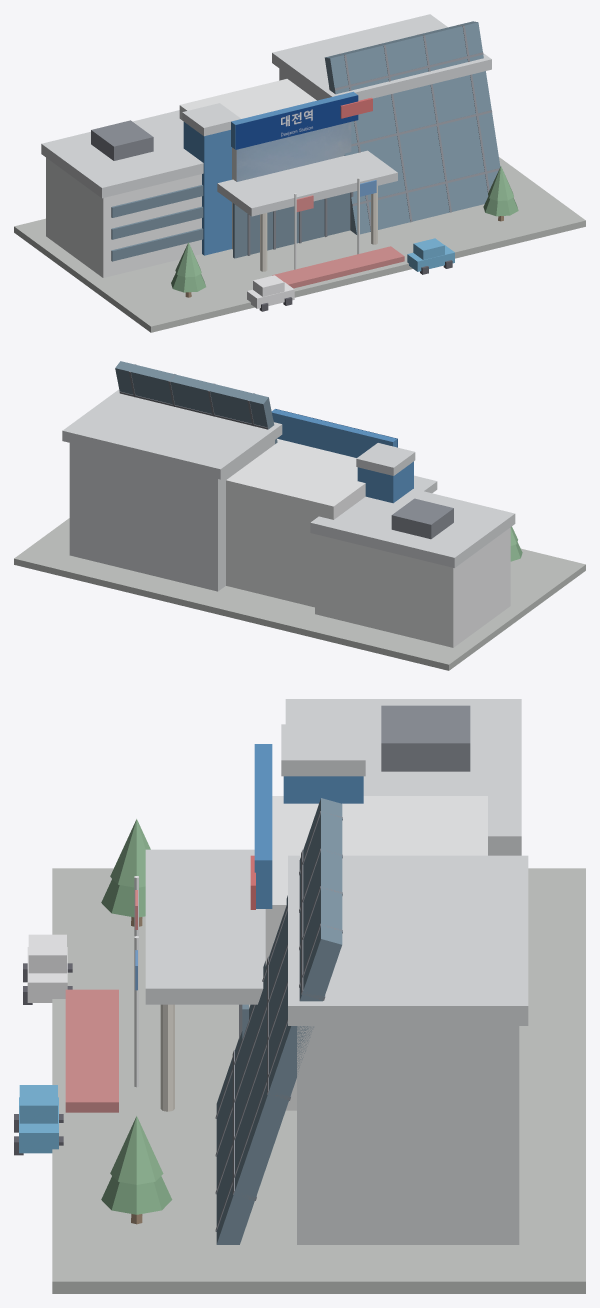
Rendered from building.glb.
3 views of the same model, one above another, from view 1: azimuth 30°, elevation 25°; view 2: azimuth 150°, elevation 25°; view 3: azimuth 270°, elevation 25° (orthographic). The views are drawn at different scales.
Size of the model in its own units: 22 by 7.9 by 12.86.
Materials: 19 (2 with a texture image).
